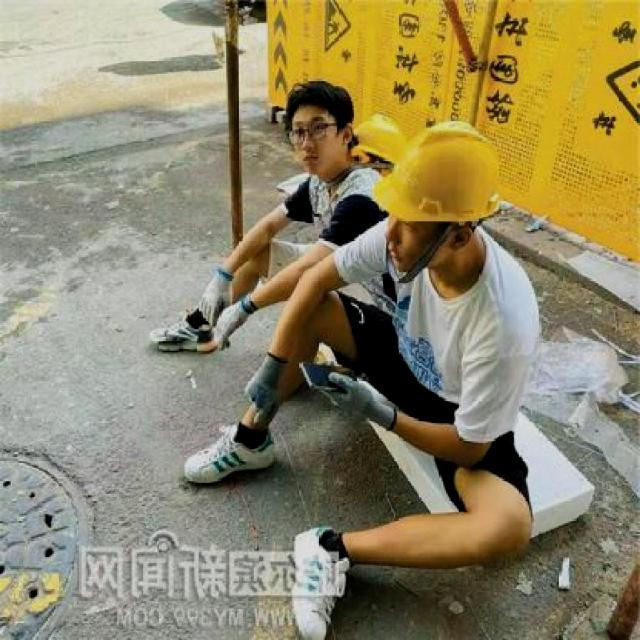face_nomask: (374, 210, 457, 276), (294, 115, 337, 177)
glasses: (285, 120, 332, 148)
hand_glove: (320, 372, 372, 420), (248, 371, 283, 423), (214, 300, 248, 351), (198, 282, 232, 326)
head_helmet: (372, 116, 503, 224)
head_nohelmet: (276, 75, 346, 120)
person: (254, 103, 558, 640), (152, 71, 414, 371)
shoes: (181, 418, 281, 492), (288, 526, 352, 640), (150, 314, 224, 355)
